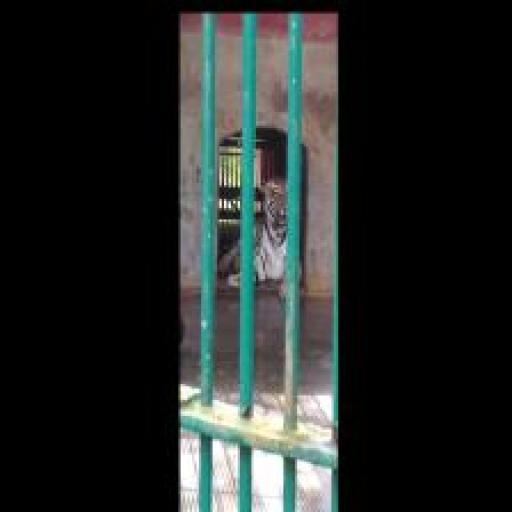Tiger: (215, 126, 310, 298)
